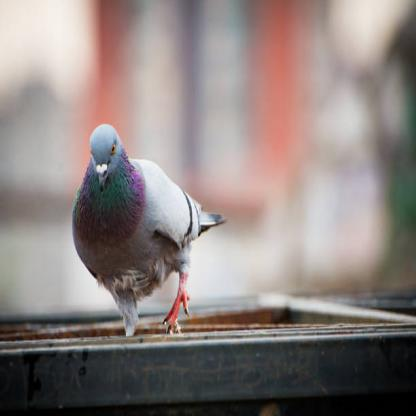Flying Rat: (67, 125, 238, 342)
